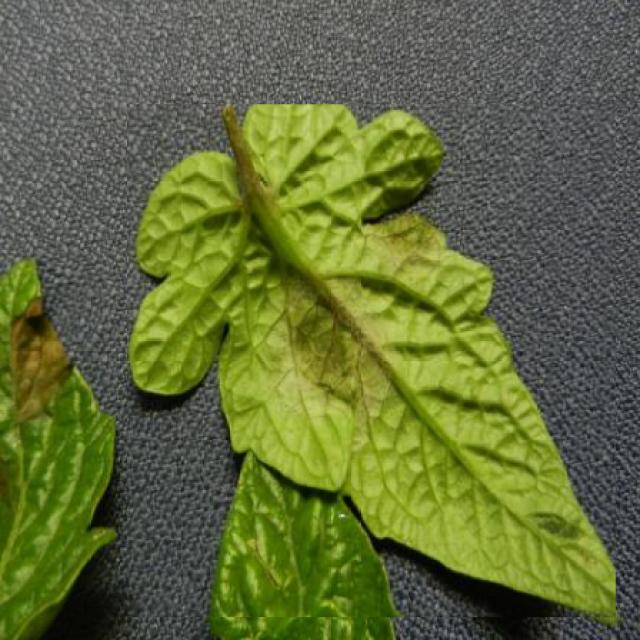Late Blight: (127, 104, 616, 617), (0, 251, 116, 640)
